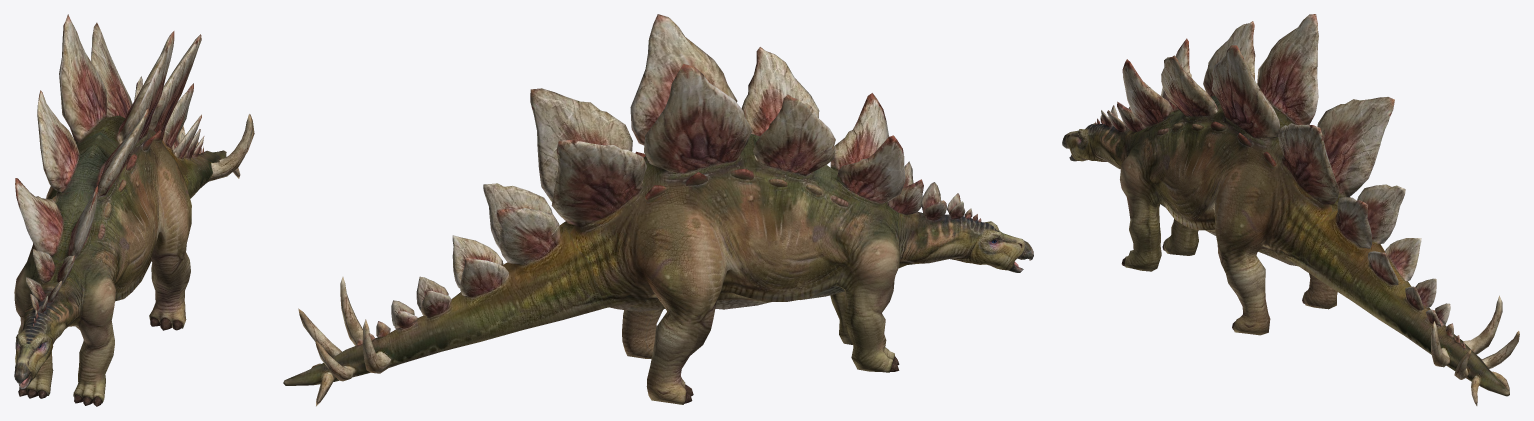
File: dinosaurio5.fbx
The picture shows the model from 3 angles, left to right: view 1: azimuth 30°, elevation 25°; view 2: azimuth 150°, elevation 25°; view 3: azimuth 270°, elevation 25°; orthographic projection. The views are drawn at different scales.
Visible parts, largest first — view 1: Object_7; view 2: Object_7; view 3: Object_7.
Boxes of the visible parts, x1,y1,x2,y2 form: Object_7: [14, 14, 254, 406]; Object_7: [283, 14, 1033, 406]; Object_7: [1062, 14, 1519, 405].
Bounding box in the file's own units: 503 × 323 × 469.
Materials: 1 (1 with a texture image).
